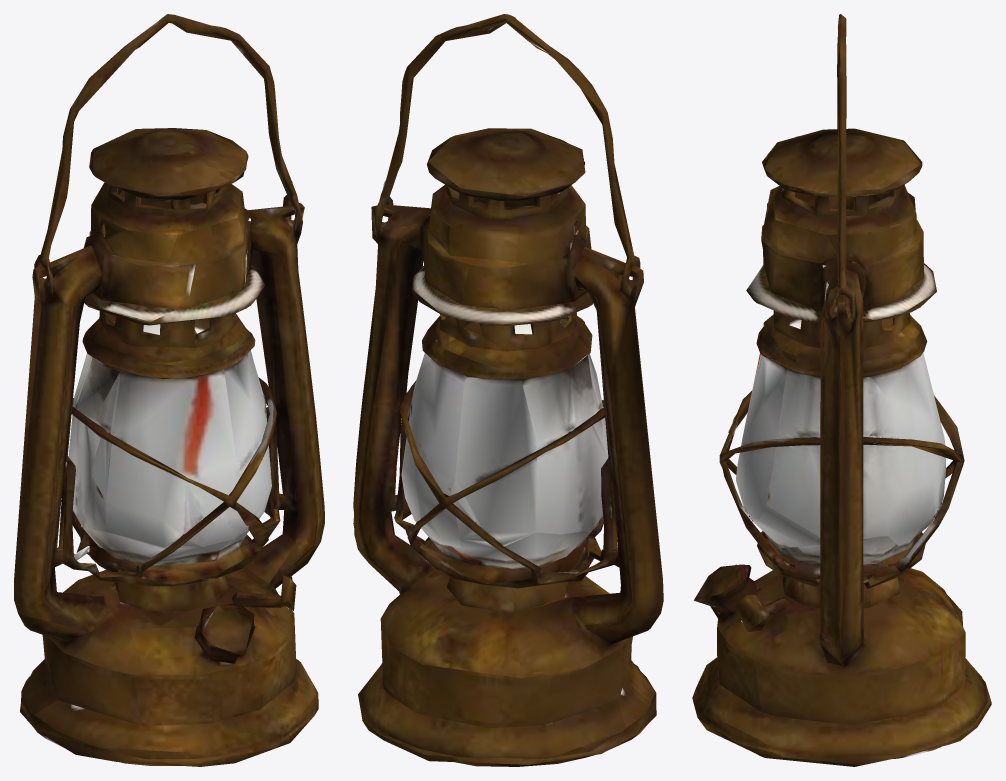
File: lantern.glb
3 renders of one model, left to right at view 1: azimuth 30°, elevation 25°; view 2: azimuth 150°, elevation 25°; view 3: azimuth 270°, elevation 25°, orthographic.
Visible parts, largest first — view 1: YVO3D.obj; view 2: YVO3D.obj; view 3: YVO3D.obj.
Part boxes in pixels (x1,y1,x2,y2): YVO3D.obj: (14, 14, 324, 766); YVO3D.obj: (353, 14, 663, 766); YVO3D.obj: (692, 14, 991, 766).
Size of the model in its own units: 0.44 by 0.9387 by 0.3697.
1 material, 1 textured.
